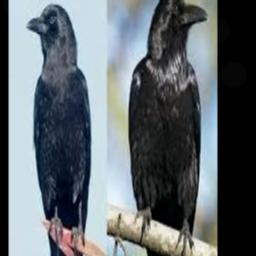Crow: (127, 0, 208, 256), (24, 1, 91, 256)
